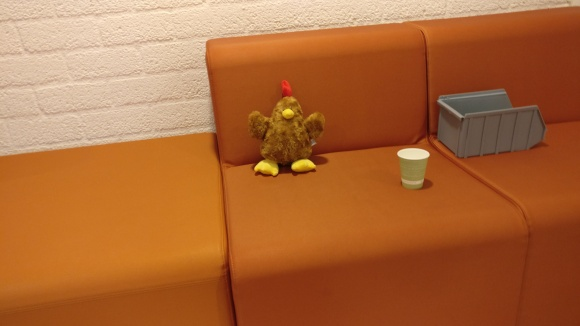chicken: (247, 78, 327, 177)
cup: (396, 145, 429, 189)
tray: (434, 87, 548, 158)
